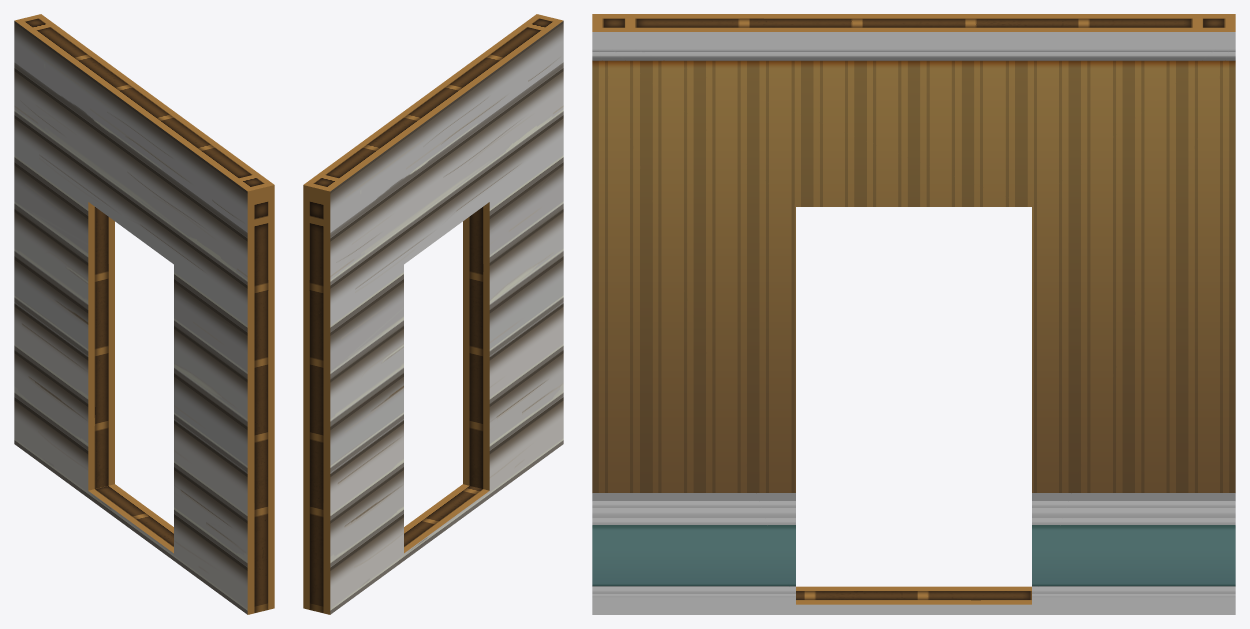
The model's file is wall01_door1m.fbx.
The picture shows the model from 3 angles, left to right: view 1: azimuth 30°, elevation 25°; view 2: azimuth 150°, elevation 25°; view 3: azimuth 270°, elevation 25°; orthographic projection. The views are drawn at different scales.
Parts seen in each view (by area): view 1: wall01_door1m; view 2: wall01_door1m; view 3: wall01_door1m.
Boxes of the visible parts, left/top/right/bottom form: wall01_door1m: left=14, top=14, right=274, bottom=614; wall01_door1m: left=303, top=14, right=563, bottom=614; wall01_door1m: left=592, top=14, right=1235, bottom=614.
Bounding box in the file's own units: 20 × 300 × 300.
